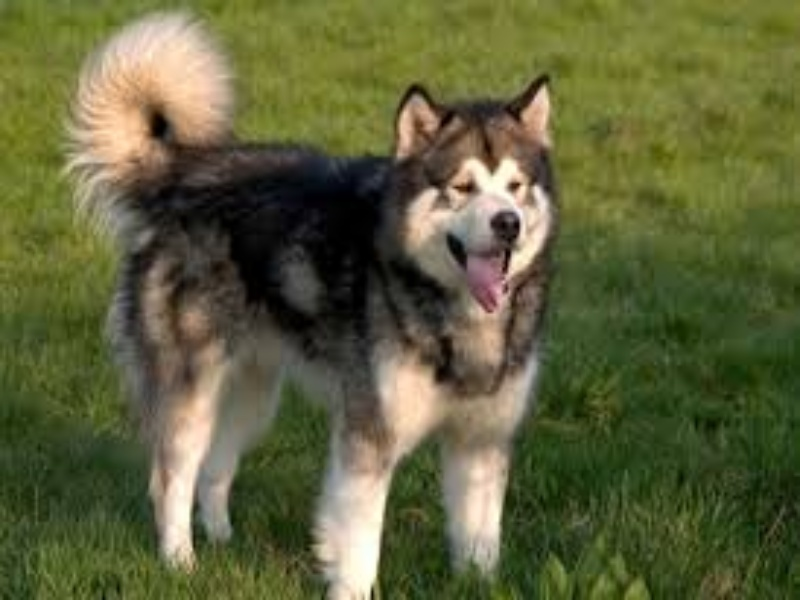dog: (56, 22, 697, 585)
